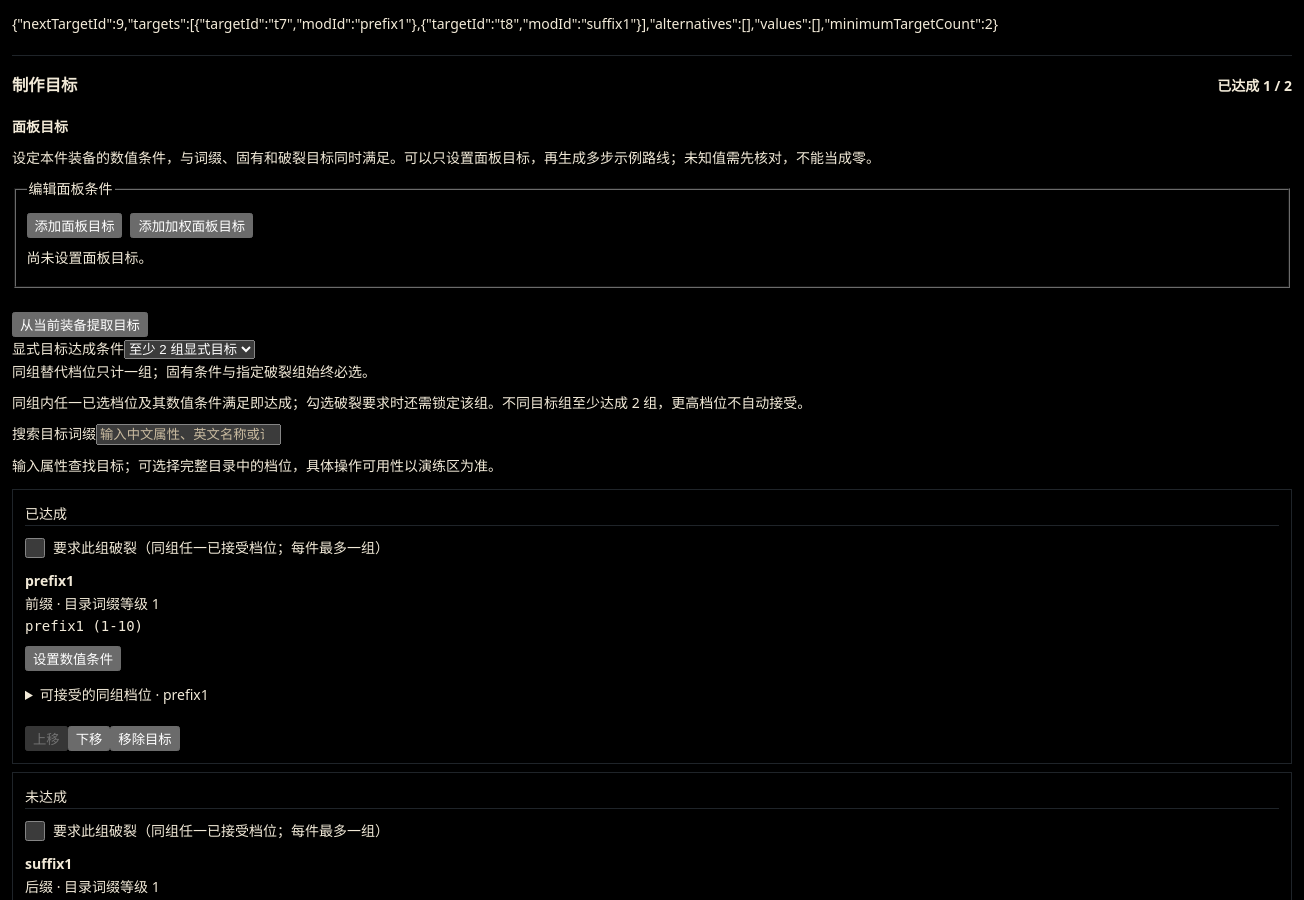
删除使数量条件超出目标数时收缩为剩余数量并解释调整
This screenshot has width=1304, height=900.
Click the button with aria-label "移除目标 prefix1". click: (145, 739)
box: left=110, top=726, right=180, bottom=751
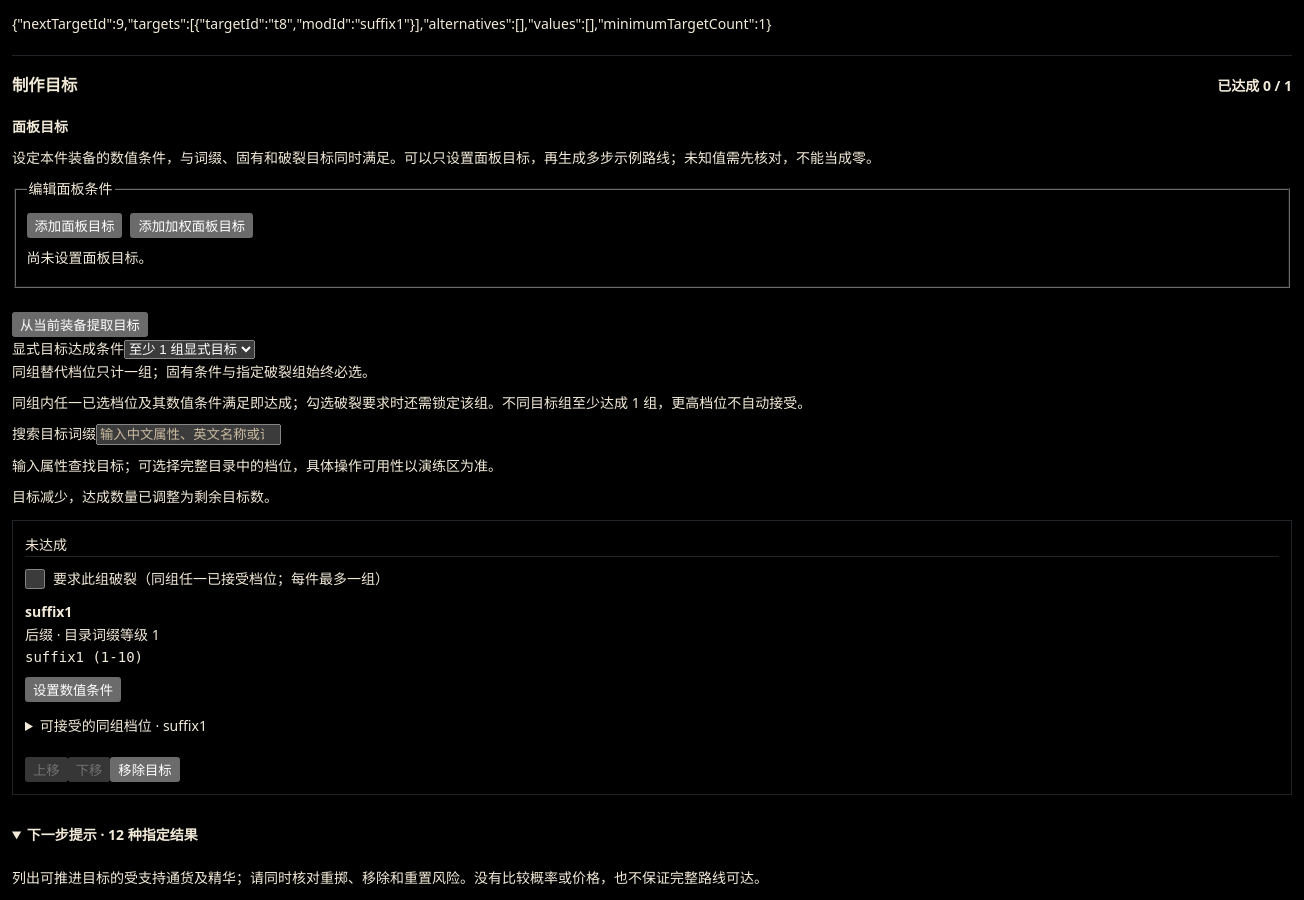
Expected: the text "目标减少，达成数量已调整为剩余目标数。" is shown, left=12, top=487, right=278, bottom=506
